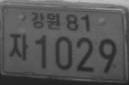0: (53, 35, 72, 71)
1: (34, 34, 49, 68), (81, 13, 93, 33)
2: (74, 36, 95, 72)
8: (64, 12, 80, 33)
9: (98, 38, 117, 73)
강원_H: (28, 10, 61, 31)
자: (9, 32, 29, 61)
